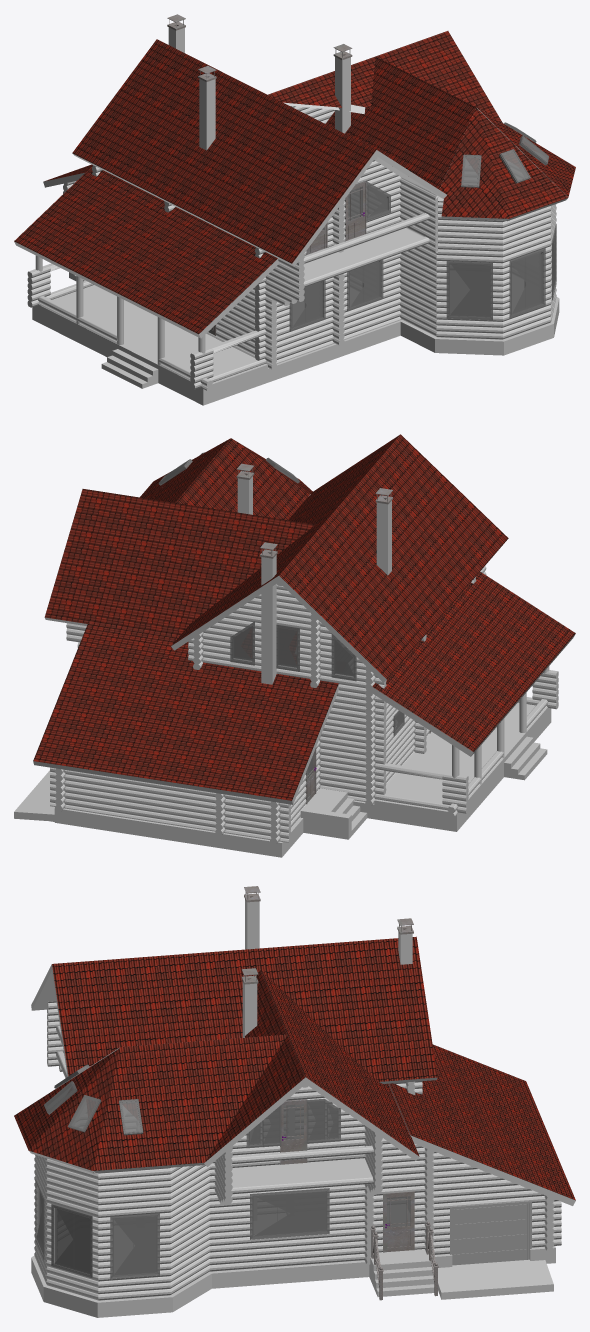
3 views of the same model, one above another, from view 1: azimuth 30°, elevation 25°; view 2: azimuth 150°, elevation 25°; view 3: azimuth 270°, elevation 25° (orthographic). The views are drawn at different scales.
Parts seen in each view (by area): view 1: tcherepitt, sub01, tsokol_dyi, windows, stairs, roof01, glass, pol, doors, trubyi, roof, sub02; view 2: tcherepitt, sub01, tsokol_dyi, stairs, roof01, windows, pandus, glass, trubyi; view 3: tcherepitt, sub01, windows, tsokol_dyi, glass, vorota_gar, roof01, pandus, pol, doors, stairs, trubyi.
Part boxes in pixels (bbox=[...]): tcherepitt: bbox=[14, 31, 575, 334]; sub01: bbox=[27, 106, 556, 390]; tsokol_dyi: bbox=[32, 27, 559, 405]; windows: bbox=[289, 122, 556, 331]; stairs: bbox=[42, 275, 267, 388]; roof01: bbox=[14, 100, 574, 338]; glass: bbox=[292, 137, 547, 325]; pol: bbox=[303, 228, 423, 279]; doors: bbox=[208, 181, 366, 335]; trubyi: bbox=[167, 14, 352, 81]; roof: bbox=[135, 102, 442, 305]; sub02: bbox=[35, 255, 205, 353]; tcherepitt: bbox=[33, 434, 575, 800]; sub01: bbox=[50, 566, 558, 844]; tsokol_dyi: bbox=[54, 476, 551, 857]; stairs: bbox=[301, 702, 547, 835]; roof01: bbox=[33, 494, 575, 804]; windows: bbox=[158, 452, 404, 735]; pandus: bbox=[14, 770, 54, 821]; glass: bbox=[161, 461, 398, 778]; trubyi: bbox=[236, 463, 392, 558]; tcherepitt: bbox=[14, 936, 575, 1200]; sub01: bbox=[34, 1001, 561, 1300]; windows: bbox=[35, 1064, 340, 1279]; tsokol_dyi: bbox=[31, 899, 555, 1317]; glass: bbox=[39, 1083, 410, 1273]; vorota_gar: bbox=[450, 1201, 531, 1265]; roof01: bbox=[29, 949, 575, 1205]; pandus: bbox=[438, 1259, 553, 1299]; pol: bbox=[231, 1158, 371, 1185]; doors: bbox=[280, 1099, 414, 1252]; stairs: bbox=[370, 1249, 434, 1296]; trubyi: bbox=[241, 886, 413, 984].
Bounding box in the file's own units: 703 × 410 × 726.
